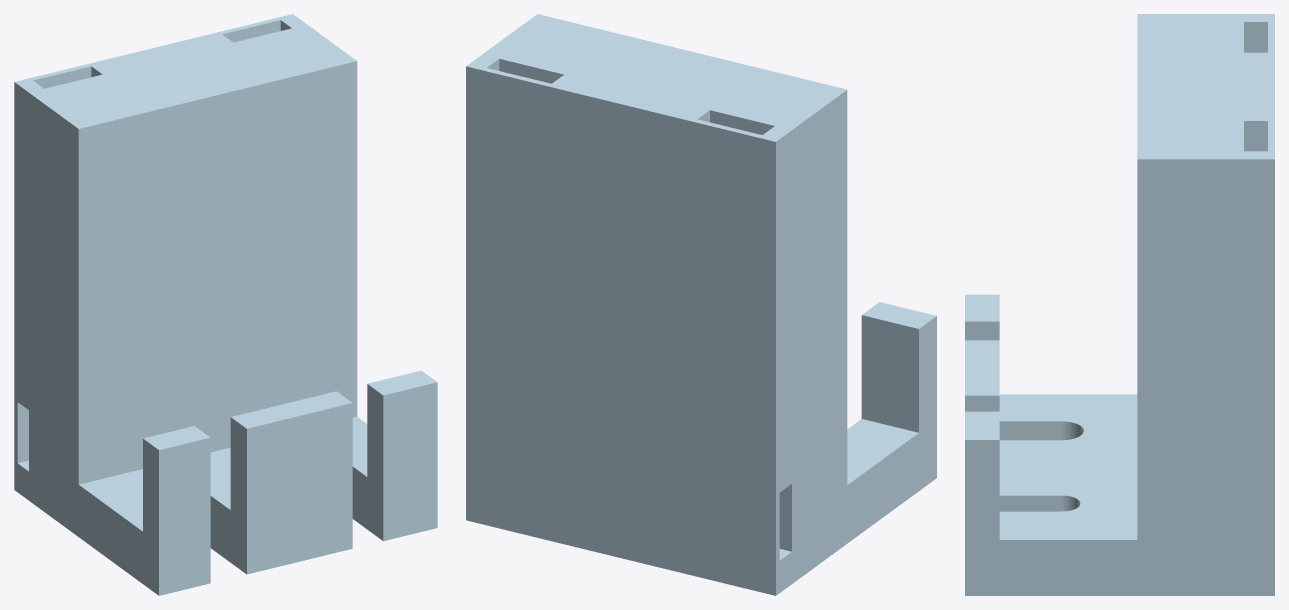
Rendered from part_studio_82e22af.gltf.
The picture shows the model from 3 angles, left to right: view 1: azimuth 30°, elevation 25°; view 2: azimuth 150°, elevation 25°; view 3: azimuth 270°, elevation 25°; orthographic projection. The views are drawn at different scales.
Parts seen in each view (by area): view 1: Part 1; view 2: Part 1; view 3: Part 1.
Part boxes in pixels (left/top/right/bottom): Part 1: left=14, top=14, right=437, bottom=595; Part 1: left=466, top=14, right=936, bottom=595; Part 1: left=965, top=14, right=1274, bottom=595.
Bounding box in the file's own units: 0.05 × 0.07 × 0.045.
